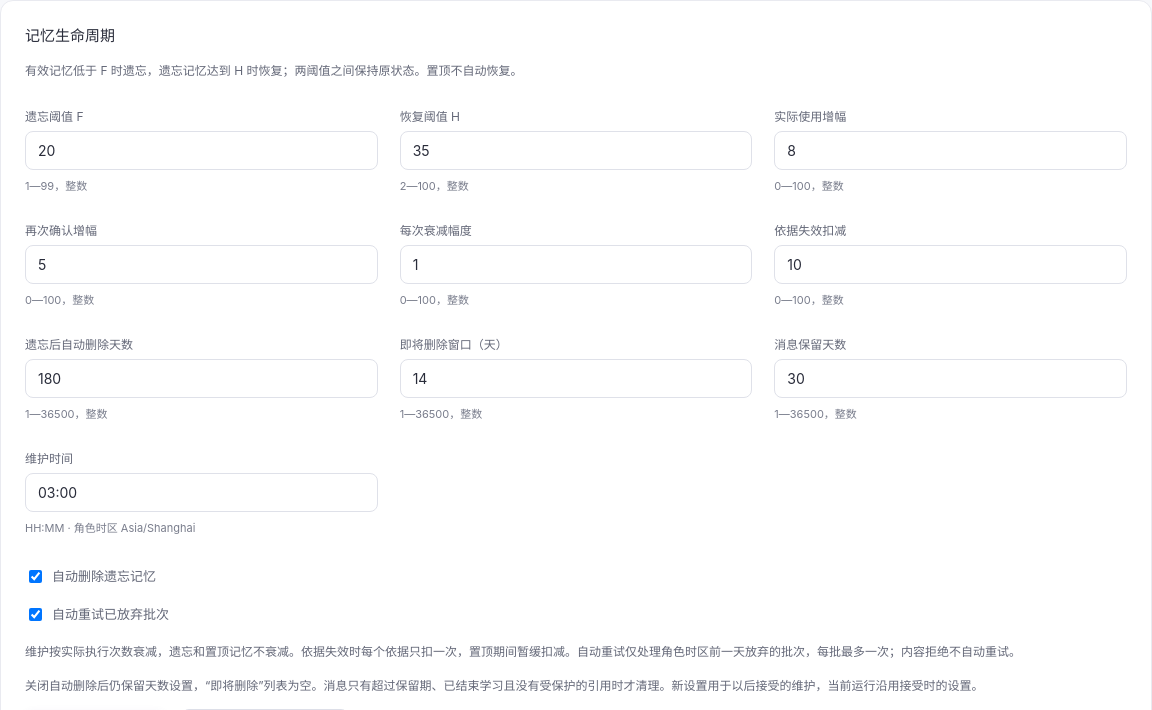
Test case: 生命周期全部设置按服务端字段提交，空模型设置不影响保存
The image size is (1152, 710).
Replace the text in the number field labelled "恢复阈值 H" with "40": (576, 151) [400,131,752,170]
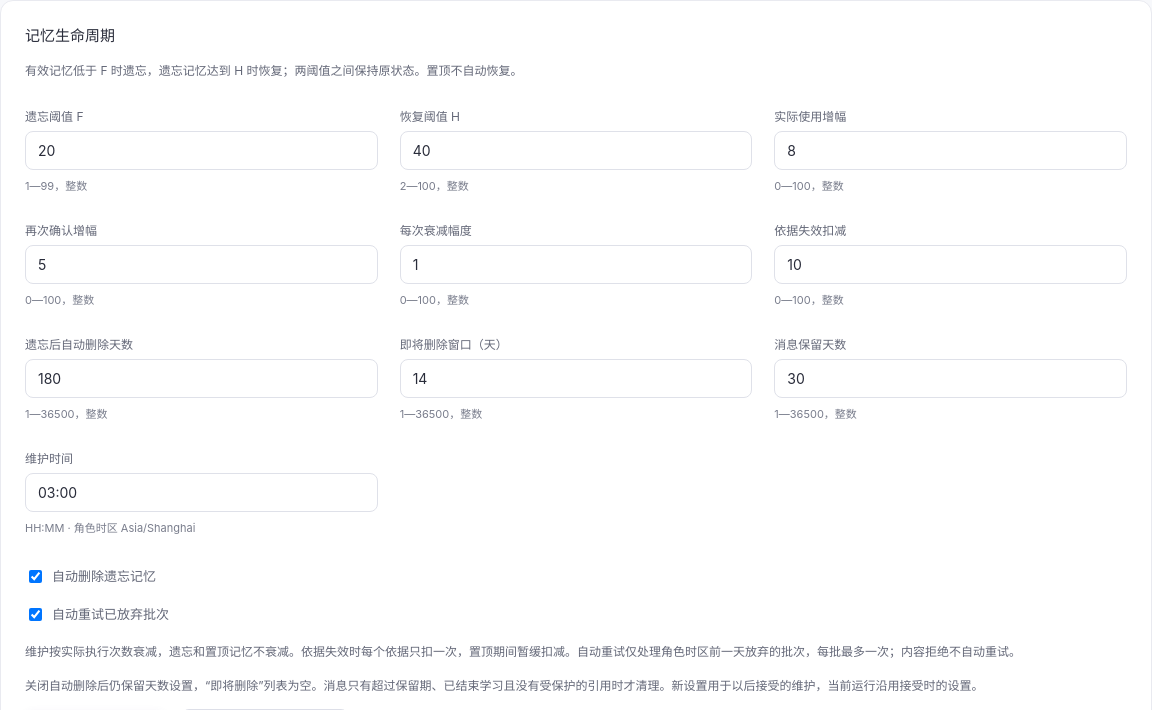
Click the checkbox labelled "自动删除遗忘记忆": click(36, 576) [29,570,42,583]
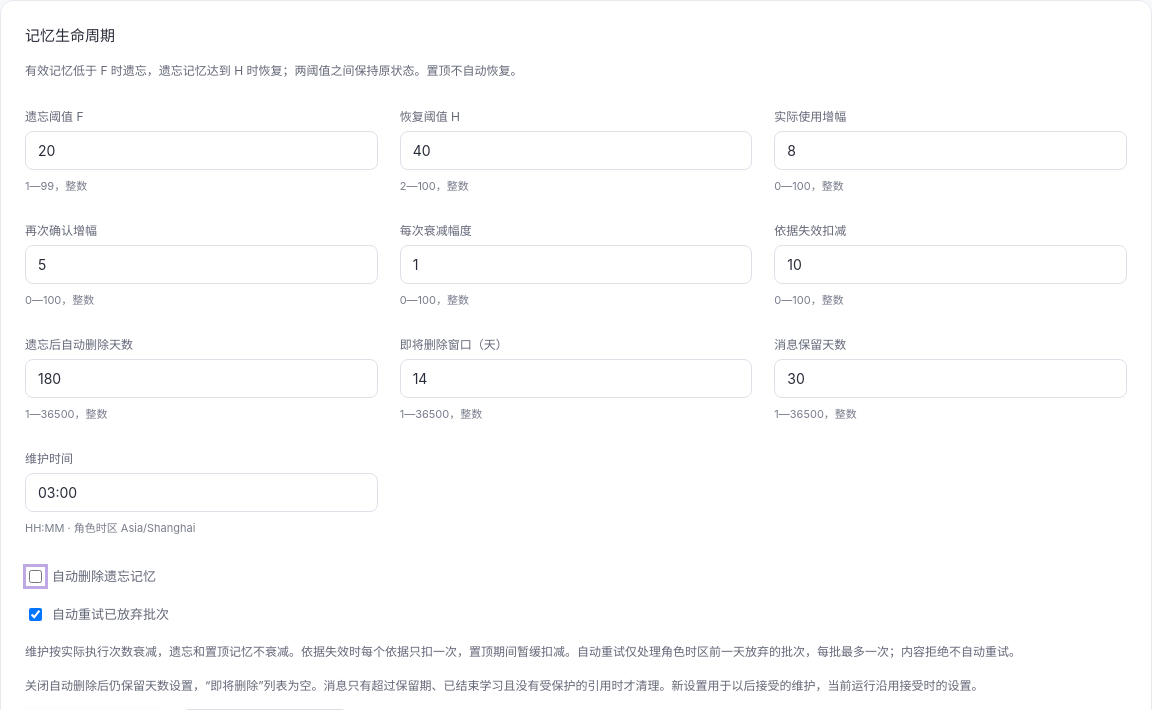
Click the checkbox labelled "自动重试已放弃批次": click(36, 614) [29,608,42,621]
(page scrolled)
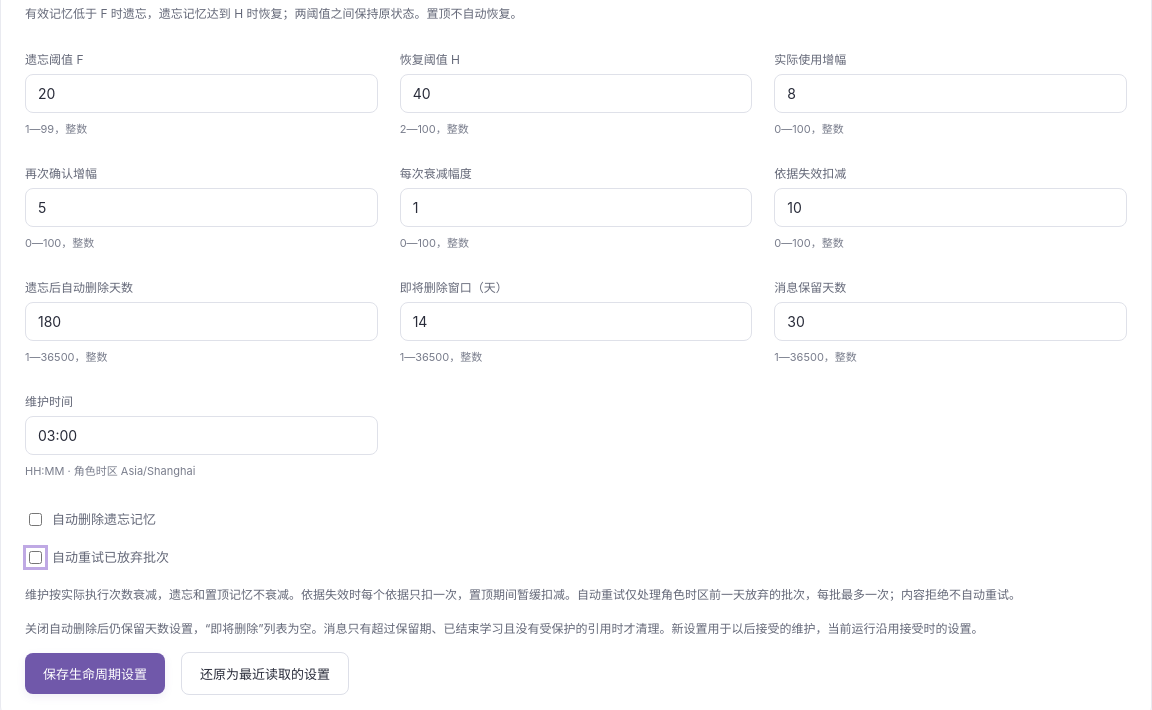
Click the button "保存生命周期设置": click(95, 674) [25,654,165,694]
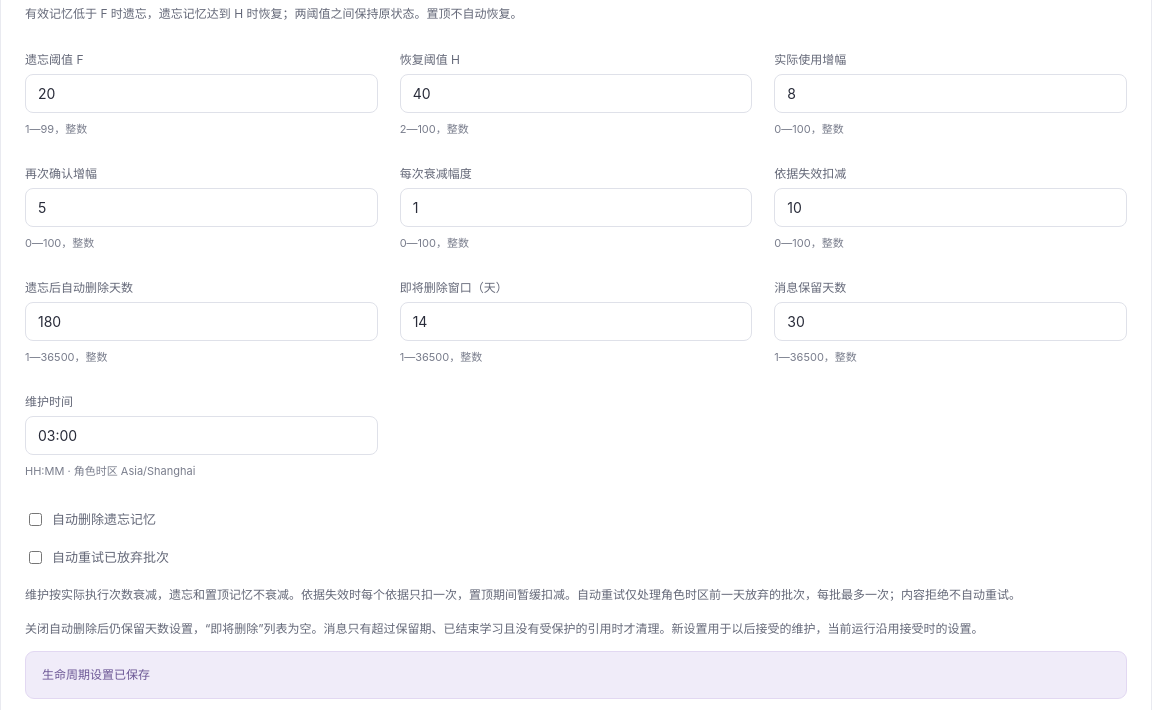
Result: the text "生命周期设置已保存" is shown at [25,652,1127,699]
